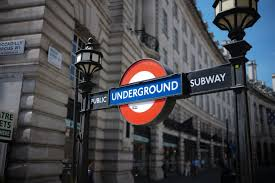London Underground: (111, 59, 177, 128)
